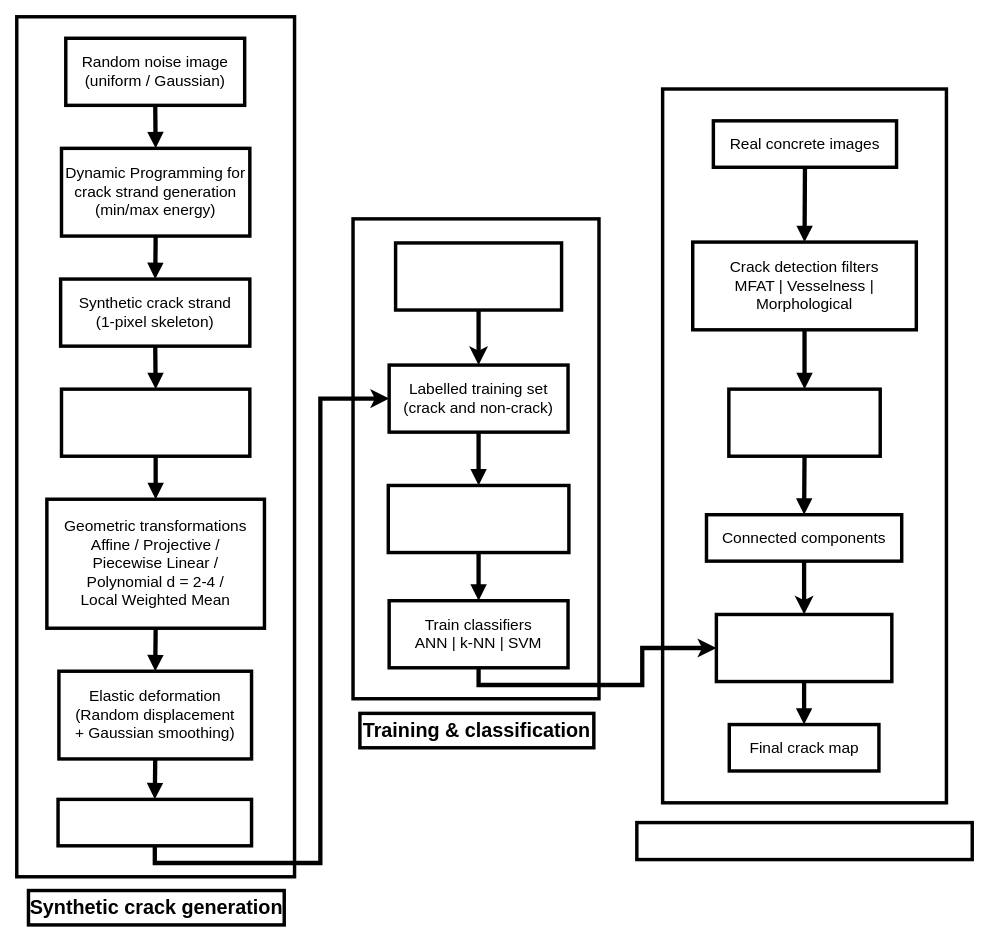
Some shapes in this 988 by 941 pixel diagram are drawn without their labels. The shapes that lost their labels are listed below. From the top down, each one's centre as x and y in pixels, then its label:
At point 478,276: "Non-crack patches (from real images)".
At point 155,422: "Morphological dilation (variable width)".
At point 804,422: "Binarization (Otsu threshold)".
At point 478,518: "Feature extraction 5 geometric features".
At point 803,647: "Classifier prediction (crack / non-crack)".
At point 154,822: "Synthetic crack images".
At point 804,840: "Crack segmentation on real i mages".
